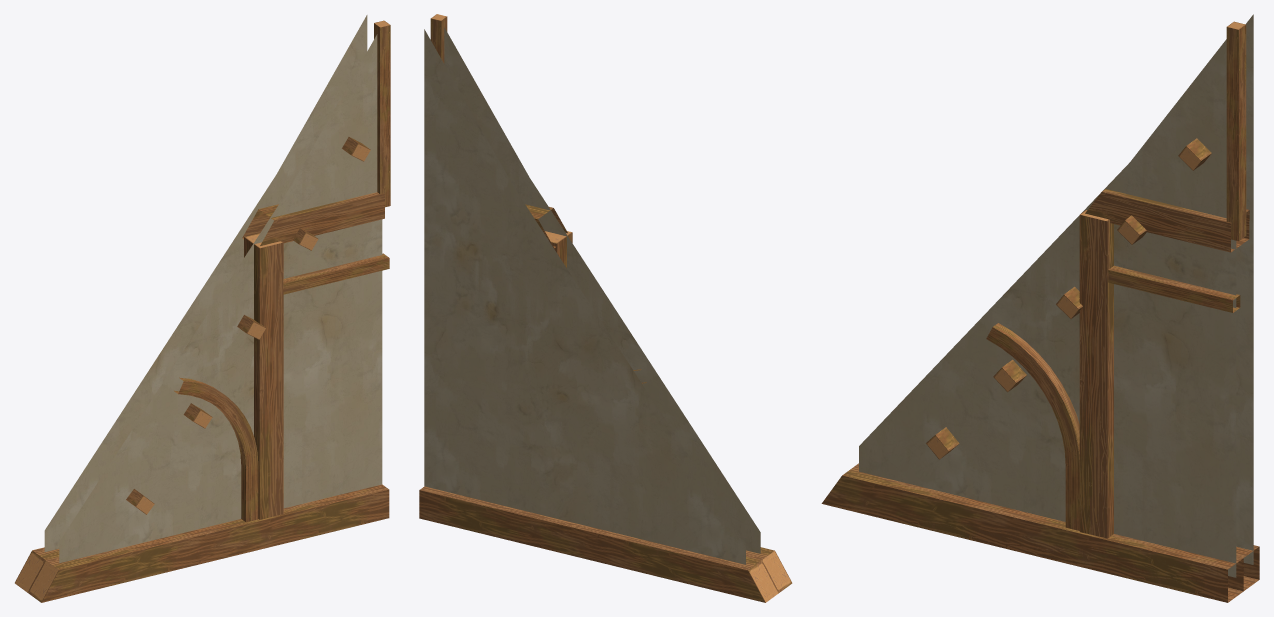
The model's file is Roof_Front_Brick6_Half_L.gltf.
The picture shows the model from 3 angles, left to right: view 1: azimuth 30°, elevation 25°; view 2: azimuth 150°, elevation 25°; view 3: azimuth 330°, elevation 25°; orthographic projection. The views are drawn at different scales.
Visible parts, largest first — view 1: Roof_Front_Brick6_Half_L; view 2: Roof_Front_Brick6_Half_L; view 3: Roof_Front_Brick6_Half_L.
Boxes of the visible parts, left/top/right/bottom form: Roof_Front_Brick6_Half_L: left=15, top=15, right=390, bottom=602; Roof_Front_Brick6_Half_L: left=419, top=14, right=792, bottom=602; Roof_Front_Brick6_Half_L: left=821, top=14, right=1259, bottom=602.
Bounding box in the file's own units: 3.41 × 4.52 × 0.4896.
Materials: 2 (2 with a texture image).
